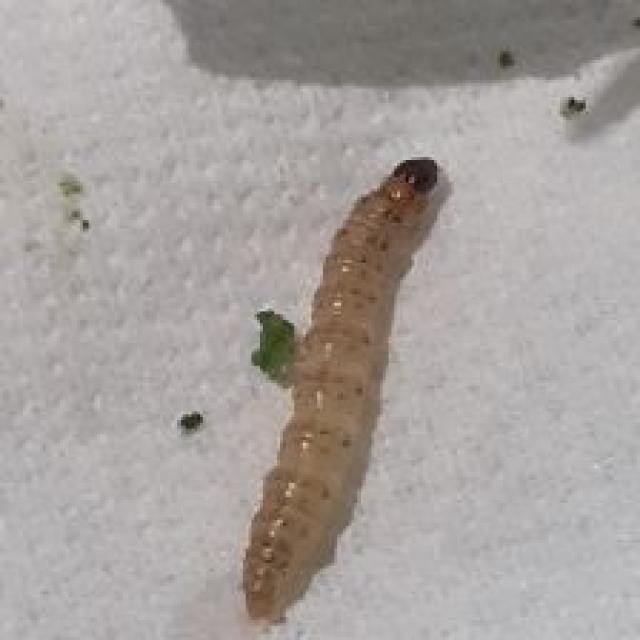white mucus: (201, 157, 488, 614)
